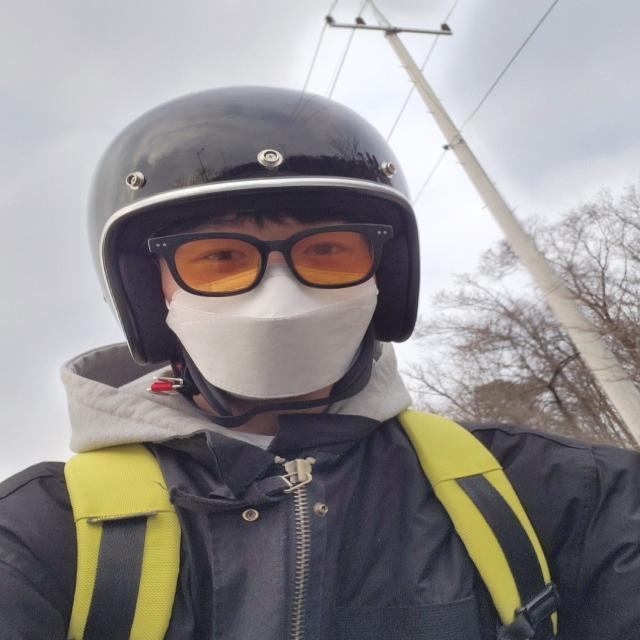helmet: (88, 84, 422, 414)
